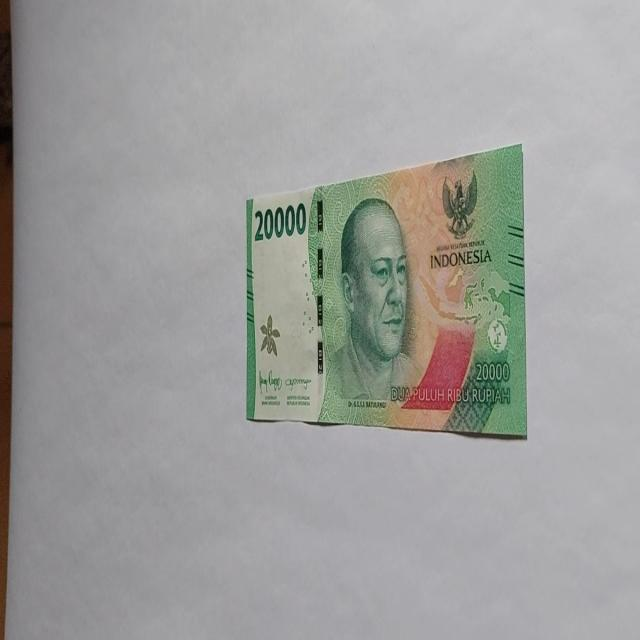dua puluh ribu rupiah: (244, 142, 526, 438), (317, 194, 423, 426)
